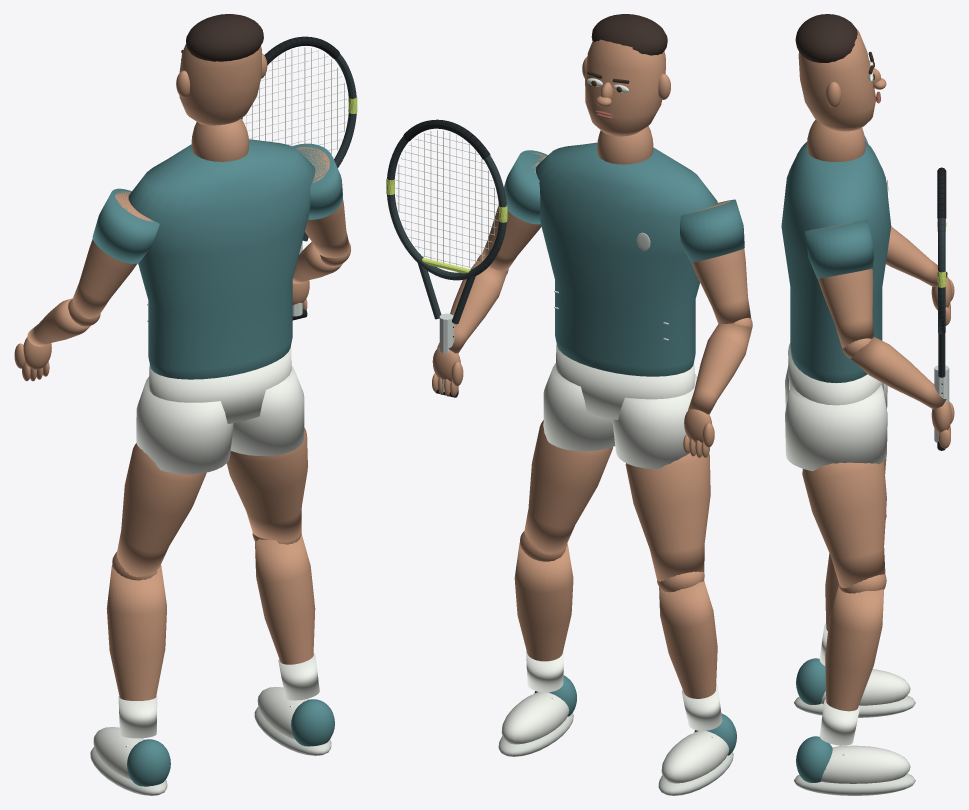
The model's file is club-player.glb.
The picture shows the model from 3 angles, left to right: view 1: azimuth 30°, elevation 25°; view 2: azimuth 150°, elevation 25°; view 3: azimuth 270°, elevation 25°; orthographic projection. The views are drawn at different scales.
Visible parts, largest first — view 1: Tailored jersey, Anatomy, Anatomy.001, Short leg, Anatomy.003, Anatomy.002, Face, Short waistband, Short leg.001, Hair crown, Sleeve.001, Anatomy.006 (+14 smaller); view 2: Tailored jersey, Anatomy, Anatomy.002, Face, Anatomy.003, Anatomy.001, Short leg, Short waistband, Short leg.001, Anatomy.007, Sleeve.001, Anatomy.006 (+12 smaller); view 3: Tailored jersey, Anatomy.002, Short leg.001, Anatomy.003, Face, Sleeve, Anatomy.004, Anatomy.005, Shoe upper.001, Hair crown, Short waistband, Neck (+13 smaller).
Part boxes in pixels (left/top/right/bottom): Tailored jersey: left=128, top=139, right=315, bottom=379; Anatomy: left=116, top=443, right=206, bottom=577; Anatomy.001: left=106, top=565, right=166, bottom=700; Short leg: left=136, top=376, right=233, bottom=474; Anatomy.003: left=255, top=534, right=315, bottom=664; Anatomy.002: left=227, top=427, right=307, bottom=540; Face: left=179, top=43, right=261, bottom=125; Short waistband: left=149, top=346, right=291, bottom=423; Short leg.001: left=230, top=366, right=304, bottom=456; Hair crown: left=186, top=14, right=263, bottom=61; Sleeve.001: left=92, top=188, right=159, bottom=263; Anatomy.006: left=72, top=191, right=154, bottom=318; Tailored jersey: left=536, top=142, right=717, bottom=376; Anatomy: left=625, top=453, right=710, bottom=581; Anatomy.002: left=524, top=420, right=612, bottom=554; Face: left=585, top=39, right=665, bottom=136; Anatomy.003: left=514, top=542, right=573, bottom=661; Anatomy.001: left=659, top=580, right=717, bottom=698; Short leg: left=612, top=374, right=697, bottom=468; Short waistband: left=556, top=345, right=694, bottom=419; Short leg.001: left=543, top=363, right=615, bottom=451; Anatomy.007: left=688, top=323, right=751, bottom=414; Sleeve.001: left=680, top=199, right=744, bottom=262; Anatomy.006: left=687, top=201, right=751, bottom=324; Tailored jersey: left=781, top=141, right=891, bottom=383; Anatomy.002: left=802, top=461, right=886, bottom=588; Short leg.001: left=785, top=384, right=887, bottom=471; Anatomy.003: left=825, top=585, right=883, bottom=711; Face: left=798, top=29, right=876, bottom=131; Sleeve: left=805, top=219, right=873, bottom=278; Anatomy.004: left=810, top=220, right=873, bottom=348; Anatomy.005: left=851, top=337, right=946, bottom=409; Shoe upper.001: left=821, top=745, right=910, bottom=783; Hair crown: left=795, top=14, right=857, bottom=62; Short waistband: left=788, top=343, right=883, bottom=405; Neck: left=807, top=120, right=865, bottom=161.
Size of the model in its own units: 0.8659 by 1.84 by 0.394.
